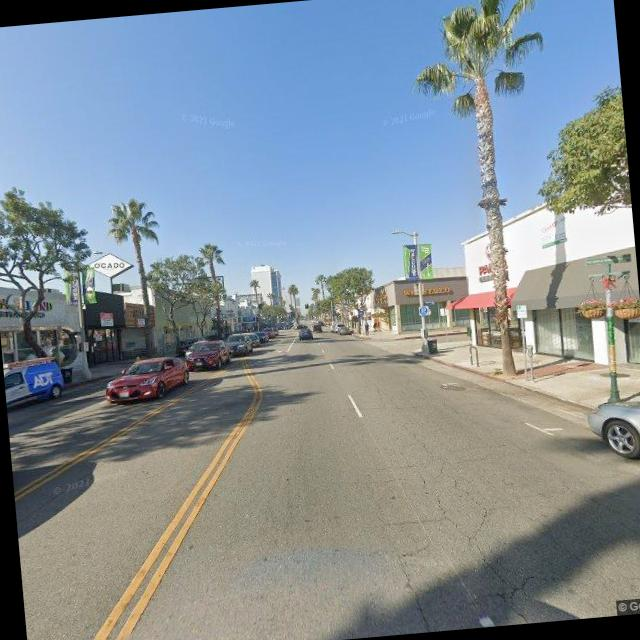crack: (363, 429, 548, 635)
